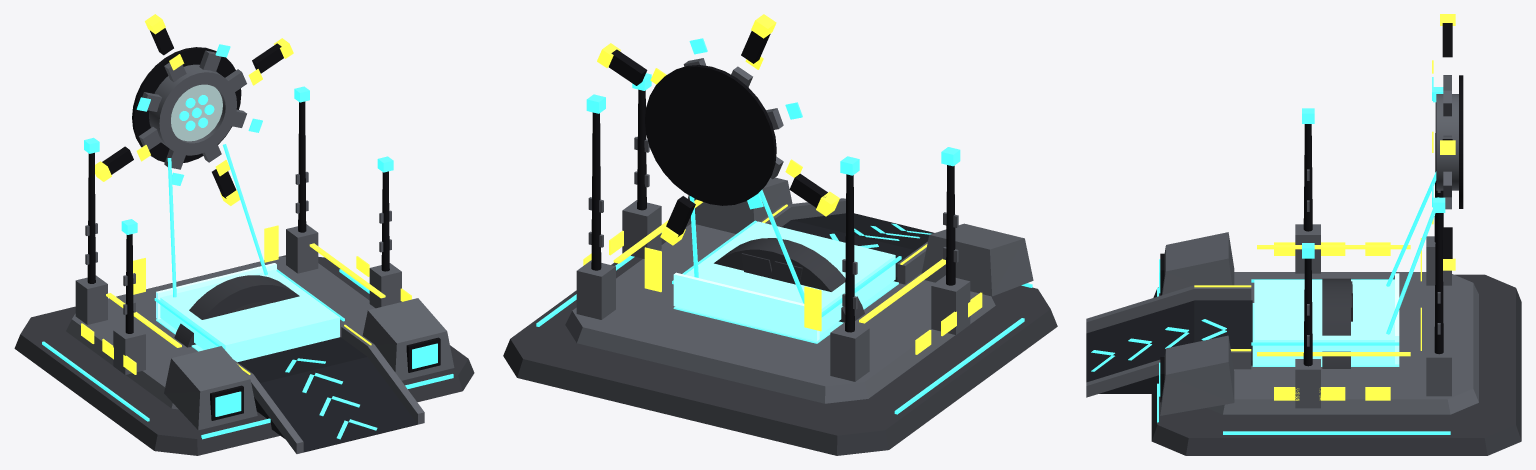
The model's file is PrismReactorFurnace_Roblox.fbx.
3 views of the same model, side by side, from view 1: azimuth 30°, elevation 25°; view 2: azimuth 150°, elevation 25°; view 3: azimuth 270°, elevation 25° (orthographic). The views are drawn at different scales.
Parts seen in each view (by area): view 1: SteelPlate, DarkPlate, Conveyor, Black, BurnZone, TealNeon, AmberNeon, ReactorCore, PoolGlass; view 2: SteelPlate, DarkPlate, Black, BurnZone, AmberNeon, TealNeon, PoolGlass, Conveyor, PrismPool; view 3: SteelPlate, DarkPlate, BurnZone, Conveyor, Black, TealNeon, AmberNeon, PrismPool.
Boxes of the visible parts, x1,y1,x2,y2 form: SteelPlate: (66,50,454,453); DarkPlate: (14,255,474,455); Conveyor: (237,337,417,452); Black: (87,28,440,420); BurnZone: (160,269,339,362); TealNeon: (42,44,453,439); AmberNeon: (81,14,411,374); ReactorCore: (171,84,222,141); PoolGlass: (156,263,276,319); SteelPlate: (565,58,1033,403); DarkPlate: (503,222,1057,455); Black: (591,31,955,332); BurnZone: (685,221,895,334); AmberNeon: (583,14,982,354); TealNeon: (536,38,1032,414); PoolGlass: (673,272,819,340); Conveyor: (781,213,933,281); PrismPool: (673,281,898,343); SteelPlate: (1086,75,1478,415); DarkPlate: (1151,274,1521,455); BurnZone: (1254,280,1394,361); Conveyor: (1086,300,1252,393); Black: (1160,23,1463,402); TealNeon: (1091,77,1450,434); AmberNeon: (1194,14,1455,400); PrismPool: (1252,303,1399,366).
Bounding box in the file's own units: 1400 × 1585 × 1530.
